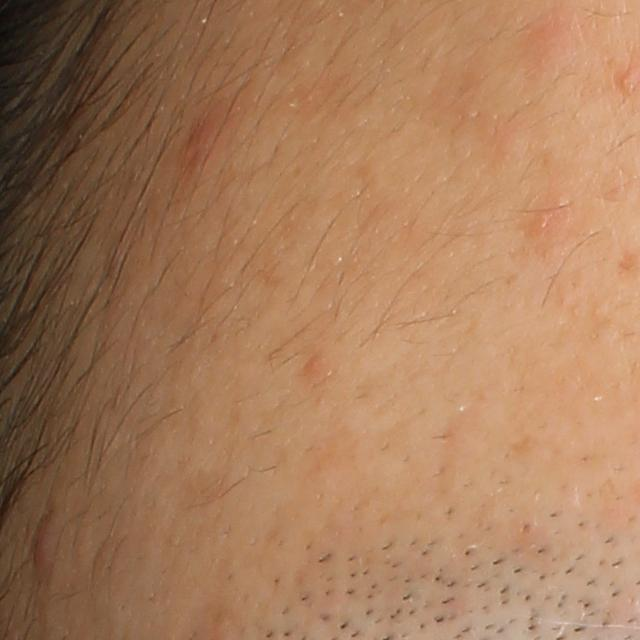papule: (28, 509, 59, 579)
